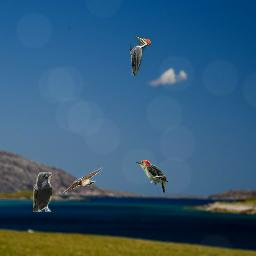Crow: (33, 172, 52, 212)
Swallow: (63, 167, 103, 193)
Woodpecker: (136, 160, 168, 194), (130, 36, 151, 76)
